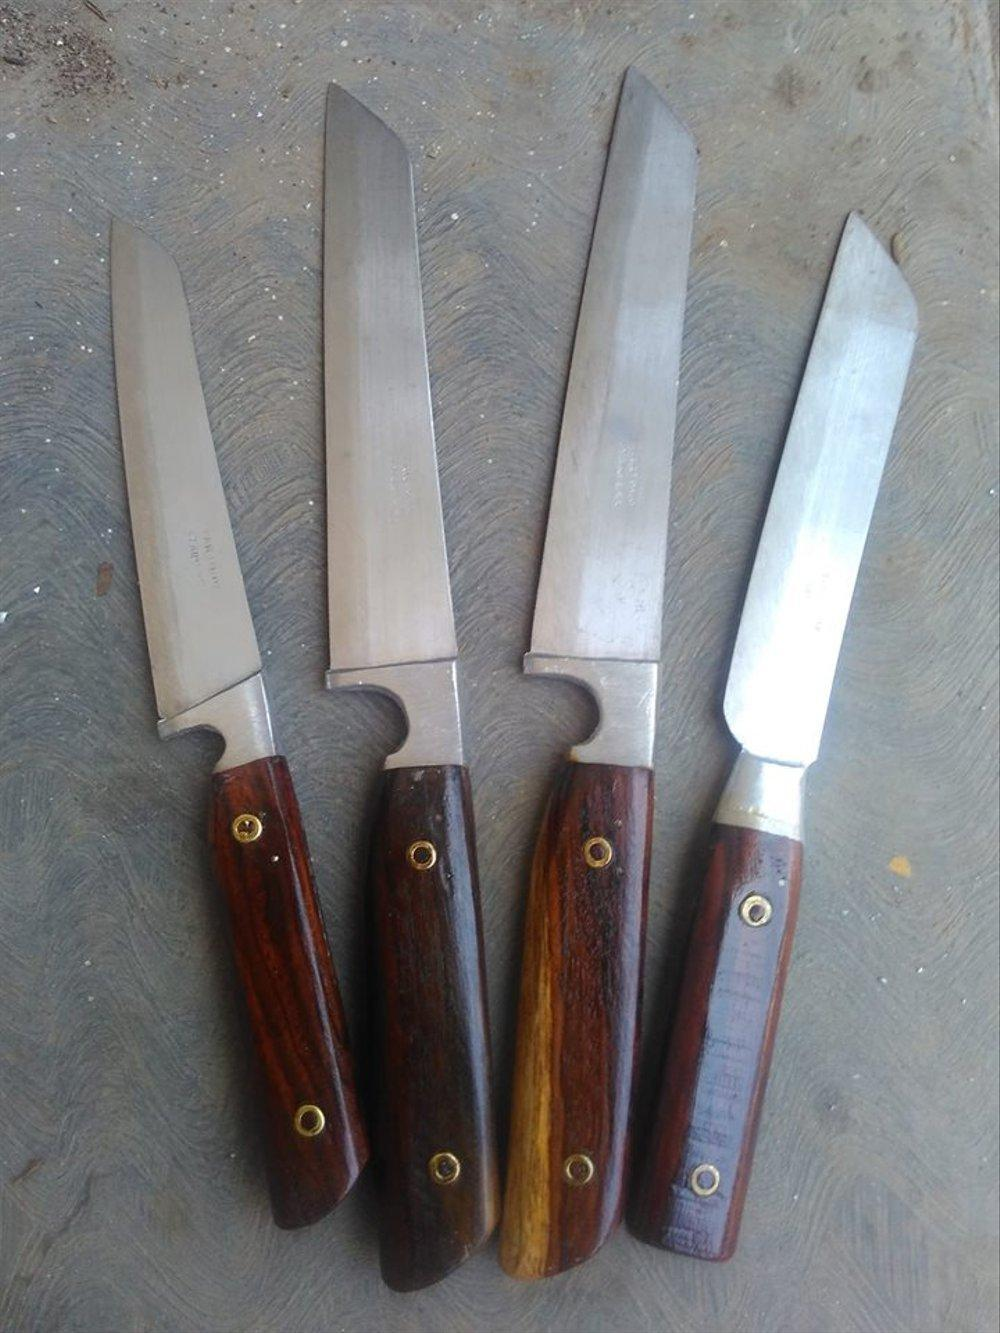faca: (640, 214, 916, 1261), (111, 224, 368, 1229), (499, 70, 694, 1280), (324, 86, 497, 1290)
